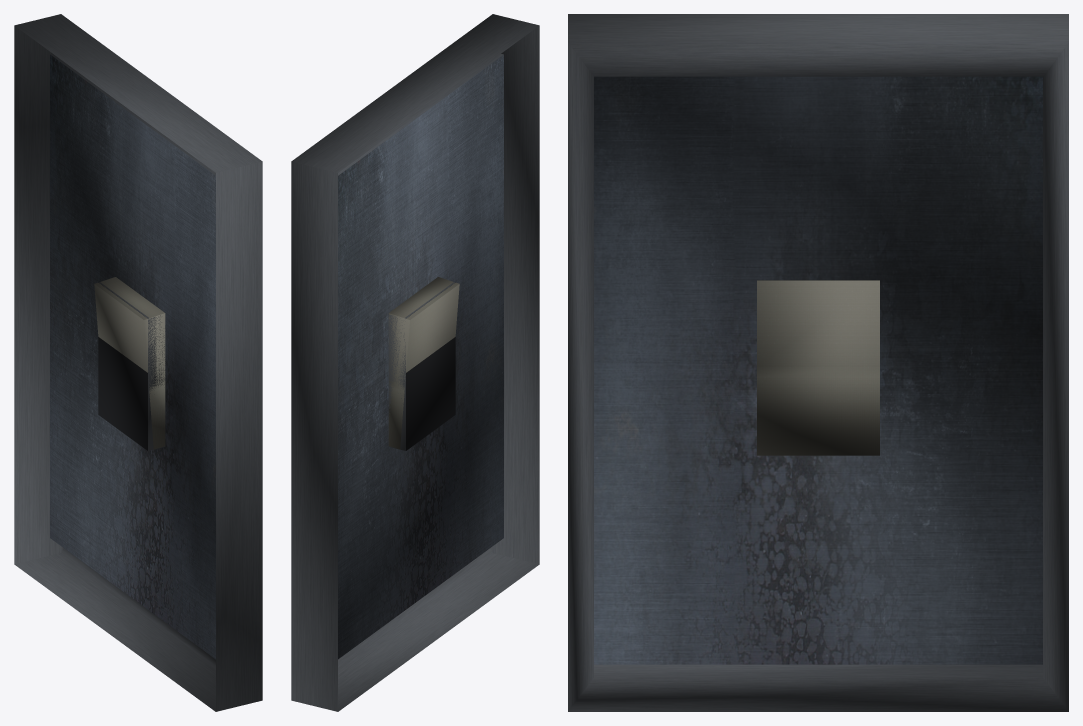
File: FPH_LightSwitch.fbx
3 renders of one model, left to right at view 1: azimuth 30°, elevation 25°; view 2: azimuth 150°, elevation 25°; view 3: azimuth 270°, elevation 25°, orthographic. The views are drawn at different scales.
Visible parts, largest first — view 1: FPH_LightSwitch, FPH_LightSwitch_001; view 2: FPH_LightSwitch, FPH_LightSwitch_001; view 3: FPH_LightSwitch, FPH_LightSwitch_001.
Part boxes in pixels (x1,y1,x2,y2): FPH_LightSwitch: (14, 14, 262, 711); FPH_LightSwitch_001: (94, 277, 165, 449); FPH_LightSwitch: (291, 14, 539, 711); FPH_LightSwitch_001: (388, 277, 459, 449); FPH_LightSwitch: (568, 14, 1068, 711); FPH_LightSwitch_001: (757, 280, 879, 455).
Size of the model in its own units: 0.0623 by 0.6849 by 0.4642.
2 materials, 2 textured.
